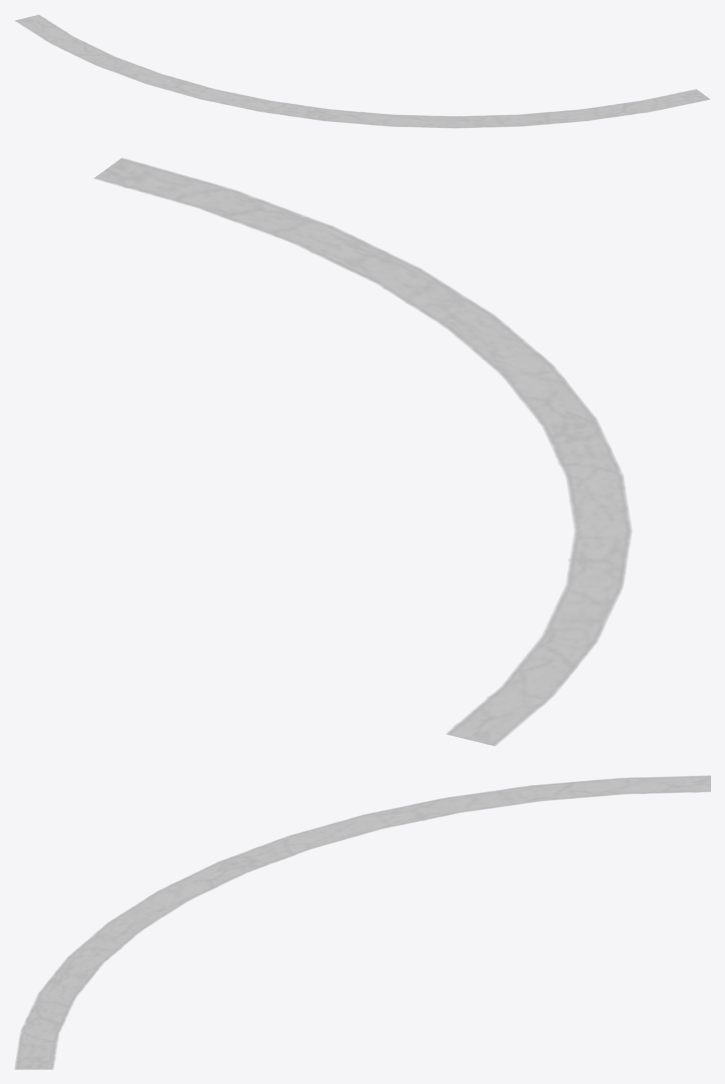
File: sidewalk_corner_round_3m_stripe.glb
3 renders of one model, top to bottom at view 1: azimuth 30°, elevation 25°; view 2: azimuth 150°, elevation 25°; view 3: azimuth 270°, elevation 25°, orthographic. The views are drawn at different scales.
Parts seen in each view (by area): view 1: Sidewalk_Corner_Round_3m_Stripe; view 2: Sidewalk_Corner_Round_3m_Stripe; view 3: Sidewalk_Corner_Round_3m_Stripe.
Part boxes in pixels (<box>): Sidewalk_Corner_Round_3m_Stripe: <box>15,15,709,127</box>; Sidewalk_Corner_Round_3m_Stripe: <box>94,158,631,745</box>; Sidewalk_Corner_Round_3m_Stripe: <box>15,775,710,1069</box>.
Bounding box in the file's own units: 3.4 × 0 × 3.4.
1 material, 1 textured.
